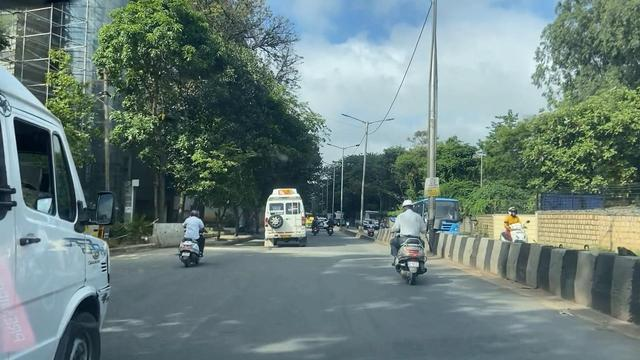HMV: (9, 62, 115, 360), (266, 179, 316, 251)
LMV: (385, 201, 433, 286), (178, 209, 206, 280)
